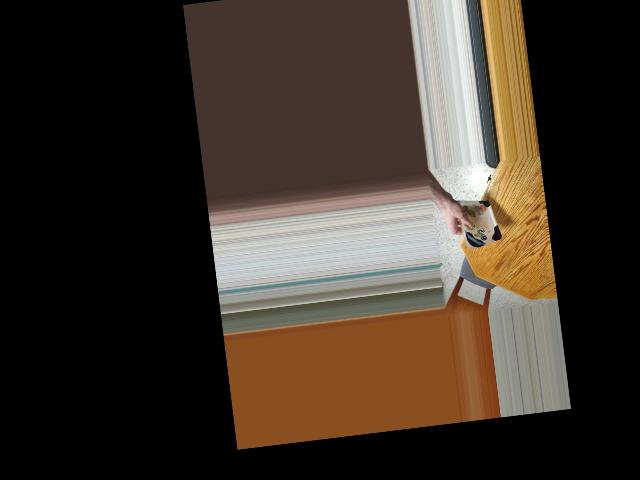cheese: (453, 188, 499, 251)
